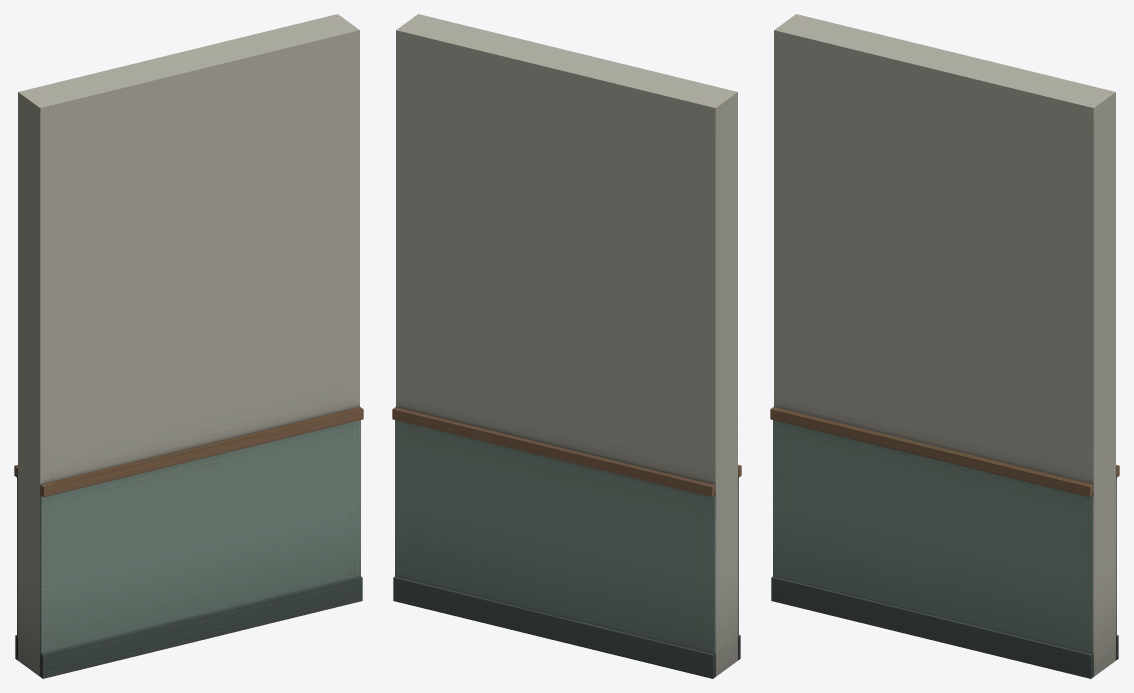
The model's file is wall_module.glb.
The picture shows the model from 3 angles, left to right: view 1: azimuth 30°, elevation 25°; view 2: azimuth 150°, elevation 25°; view 3: azimuth 330°, elevation 25°; orthographic projection.
Visible parts, largest first — view 1: WallModule; view 2: WallModule; view 3: WallModule.
Boxes of the visible parts, left/top/right/bottom form: WallModule: left=14, top=14, right=363, bottom=678; WallModule: left=392, top=14, right=741, bottom=678; WallModule: left=770, top=14, right=1119, bottom=678.
Size of the model in its own units: 2 by 3.4 by 0.32.
Materials: 4 (4 with a texture image).
